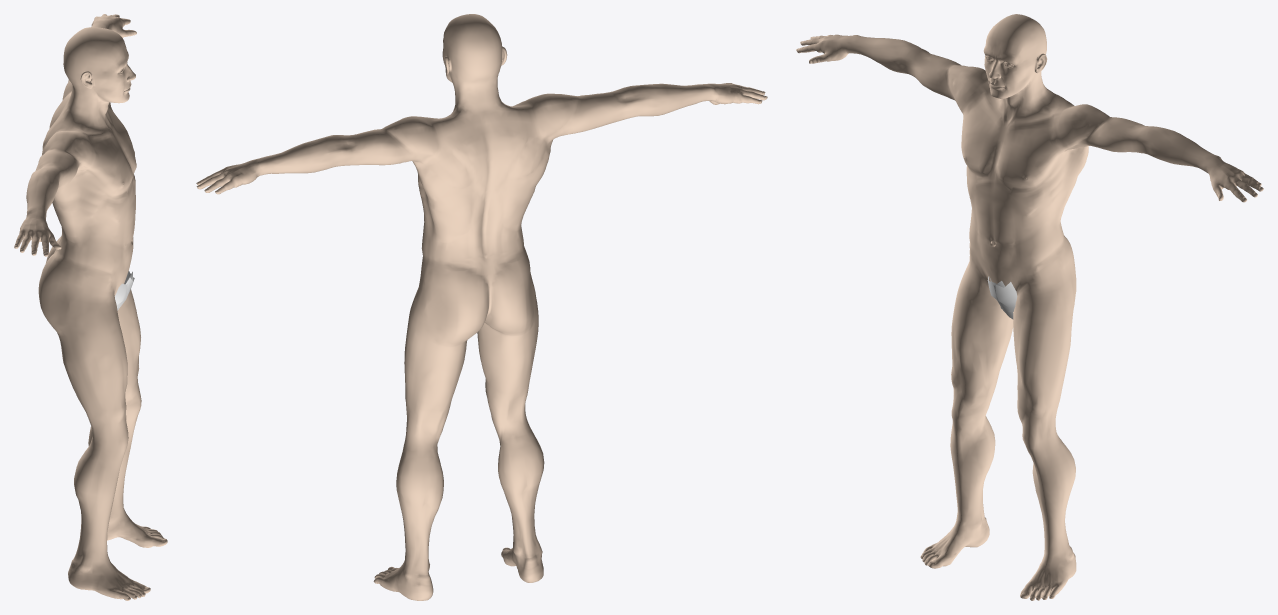
The model's file is man.gltf.
3 views of the same model, side by side, from view 1: azimuth 30°, elevation 25°; view 2: azimuth 150°, elevation 25°; view 3: azimuth 270°, elevation 25° (orthographic). The views are drawn at different scales.
Parts seen in each view (by area): view 1: Node4; view 2: Node4; view 3: Node4.
Boxes of the visible parts, x1=… form: Node4: x1=14, y1=14, x2=167, y2=600; Node4: x1=196, y1=14, x2=767, y2=600; Node4: x1=796, y1=14, x2=1263, y2=600.
Size of the model in its own units: 0.4726 by 0.7504 by 0.5818.
